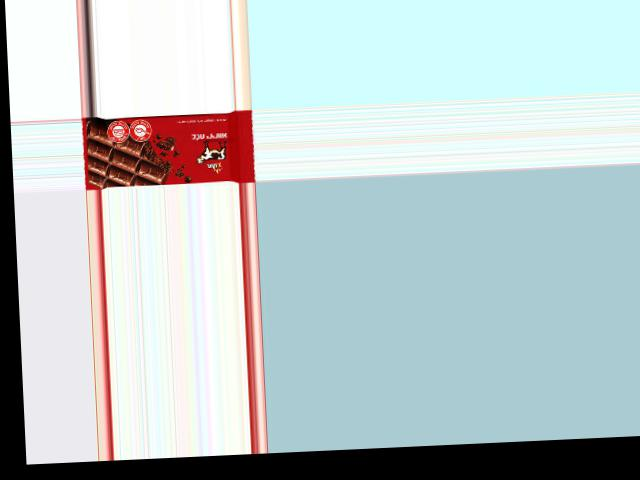chocolate: (82, 109, 253, 189)
